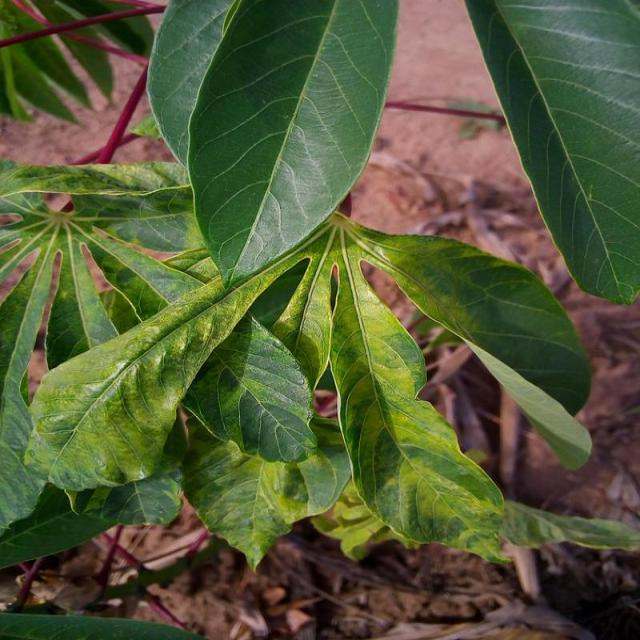cassava leaf: (2, 0, 630, 574), (184, 0, 400, 288), (463, 0, 639, 306)
